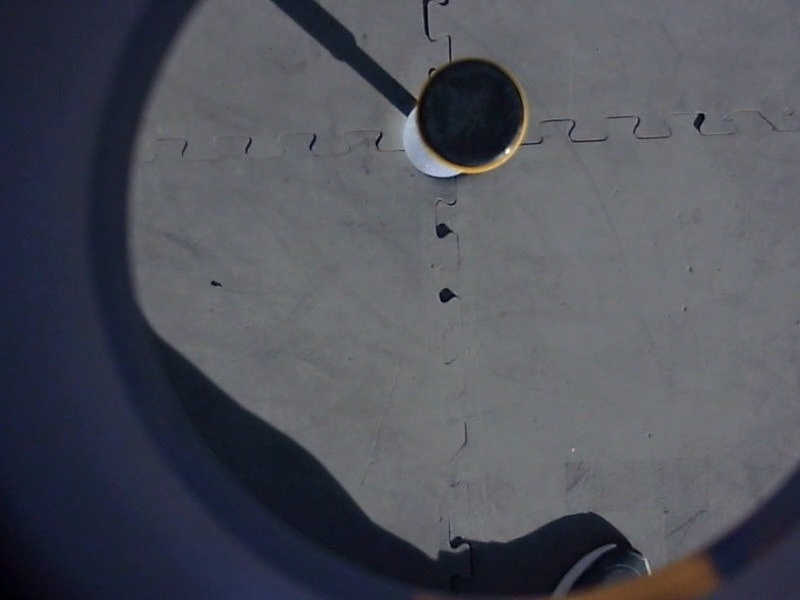tip: (411, 50, 535, 174)
